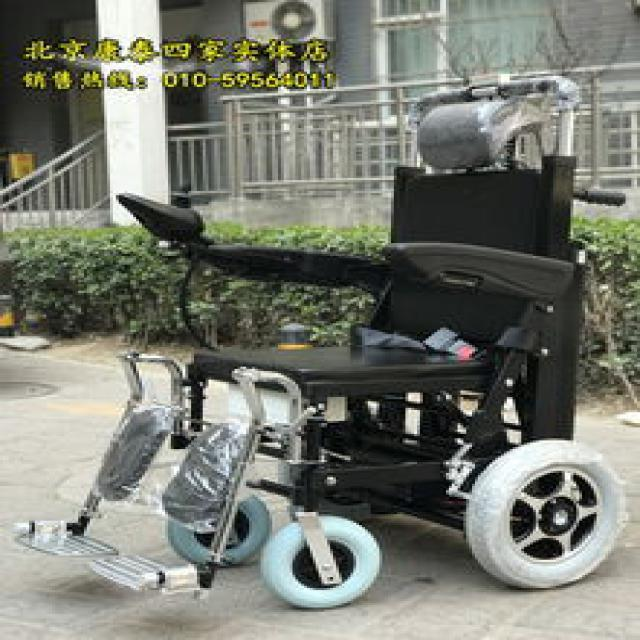wheelchair: (11, 70, 622, 608)
